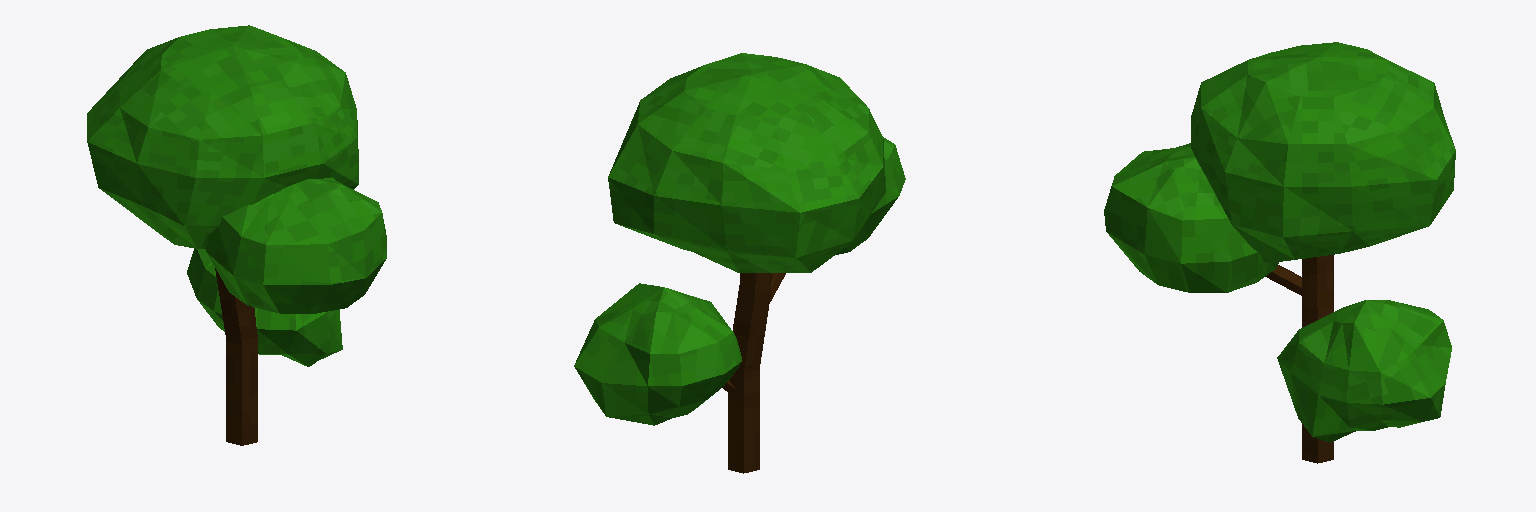
3 renders of one model, left to right at view 1: azimuth 30°, elevation 25°; view 2: azimuth 150°, elevation 25°; view 3: azimuth 270°, elevation 25°, orthographic.
Visible parts, largest first — view 1: sphere, cylinder; view 2: sphere, cylinder; view 3: sphere, cylinder.
Part boxes in pixels (x1,y1,x2,y2): sphere: (87,25,386,366); cylinder: (215,268,257,445); sphere: (574,53,905,425); cylinder: (722,273,785,473); sphere: (1104,42,1455,442); cylinder: (1265,255,1333,463).
Size of the model in its own units: 1.18 by 1.71 by 1.38.
2 materials, 2 textured.